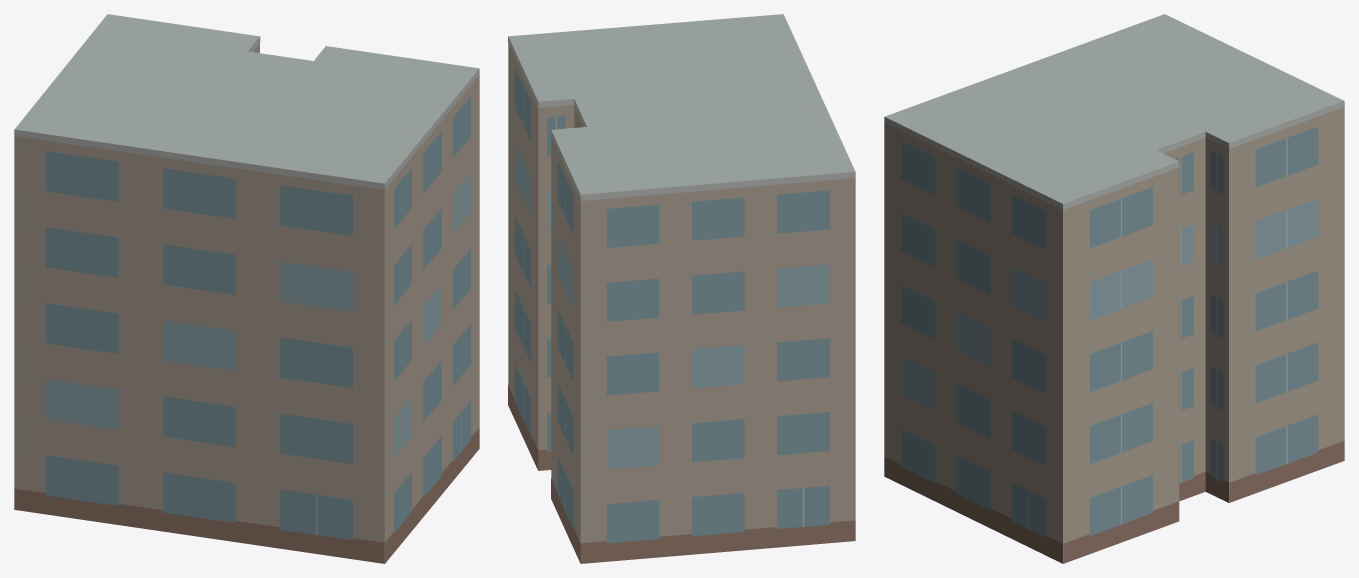
Rendered from survey-upis-32637022.glb.
3 renders of one model, left to right at view 1: azimuth 30°, elevation 25°; view 2: azimuth 150°, elevation 25°; view 3: azimuth 270°, elevation 25°, orthographic. The views are drawn at different scales.
Visible parts, largest first — view 1: survey-upis-32637022.tmp; view 2: survey-upis-32637022.tmp; view 3: survey-upis-32637022.tmp.
Part boxes in pixels (<box>): survey-upis-32637022.tmp: <box>14,14,479,563</box>; survey-upis-32637022.tmp: <box>508,14,855,563</box>; survey-upis-32637022.tmp: <box>884,14,1344,563</box>.
Size of the model in its own units: 16.43 by 14.5 by 16.81.
